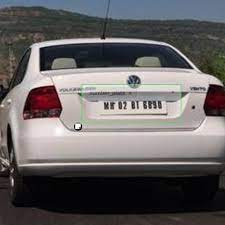number_plates: (101, 100, 168, 115)
